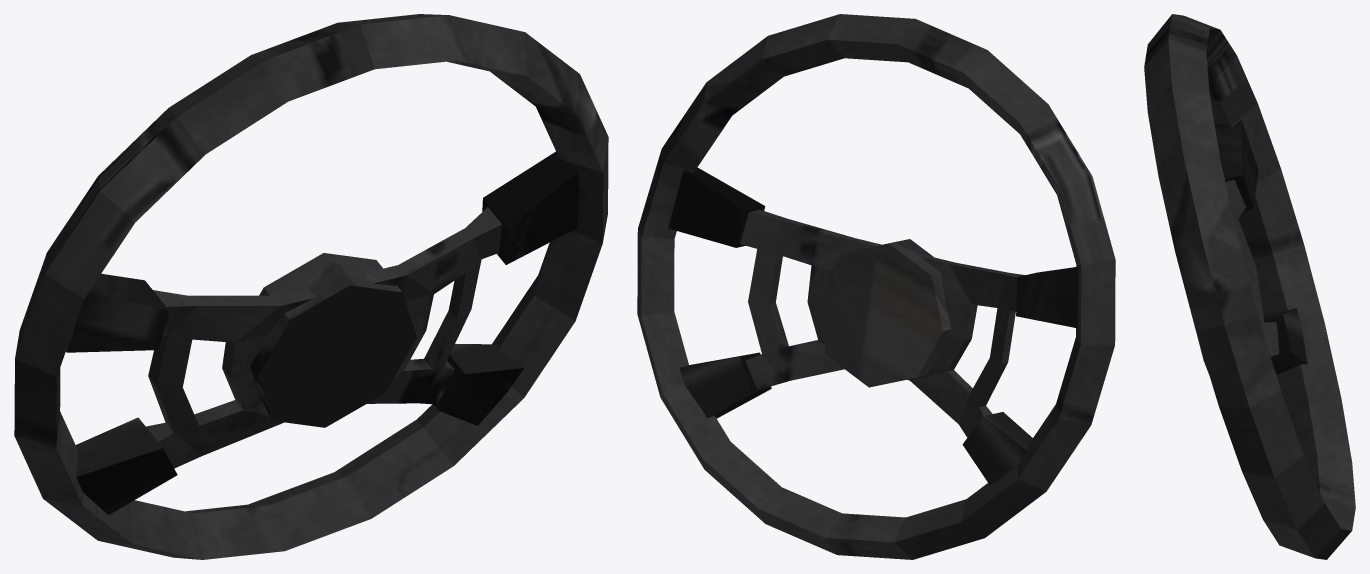
Rendered from steering_wheel.obj.
3 views of the same model, side by side, from view 1: azimuth 30°, elevation 25°; view 2: azimuth 150°, elevation 25°; view 3: azimuth 270°, elevation 25° (orthographic). The views are drawn at different scales.
Bounding box in the file's own units: 0.2943 × 0.2821 × 0.1092.
1 material, 1 textured.
